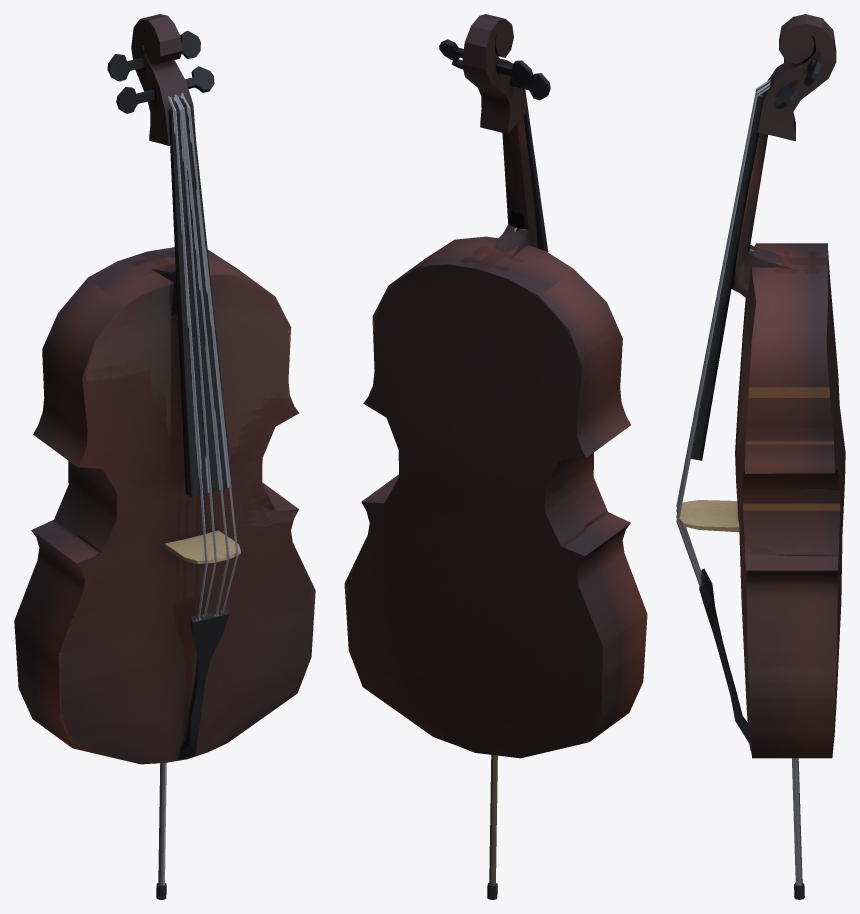
The model's file is cello01.fbx.
The picture shows the model from 3 angles, left to right: view 1: azimuth 30°, elevation 25°; view 2: azimuth 150°, elevation 25°; view 3: azimuth 270°, elevation 25°; orthographic projection.
Parts seen in each view (by area): view 1: chello.002; view 2: chello.002; view 3: chello.002.
Boxes of the visible parts, x1,y1,x2,y2 form: chello.002: (14,14,315,899); chello.002: (344,14,647,899); chello.002: (676,14,845,899).
Size of the model in its own units: 0.501 by 0.2853 by 1.63.
Materials: 1 (1 with a texture image).
